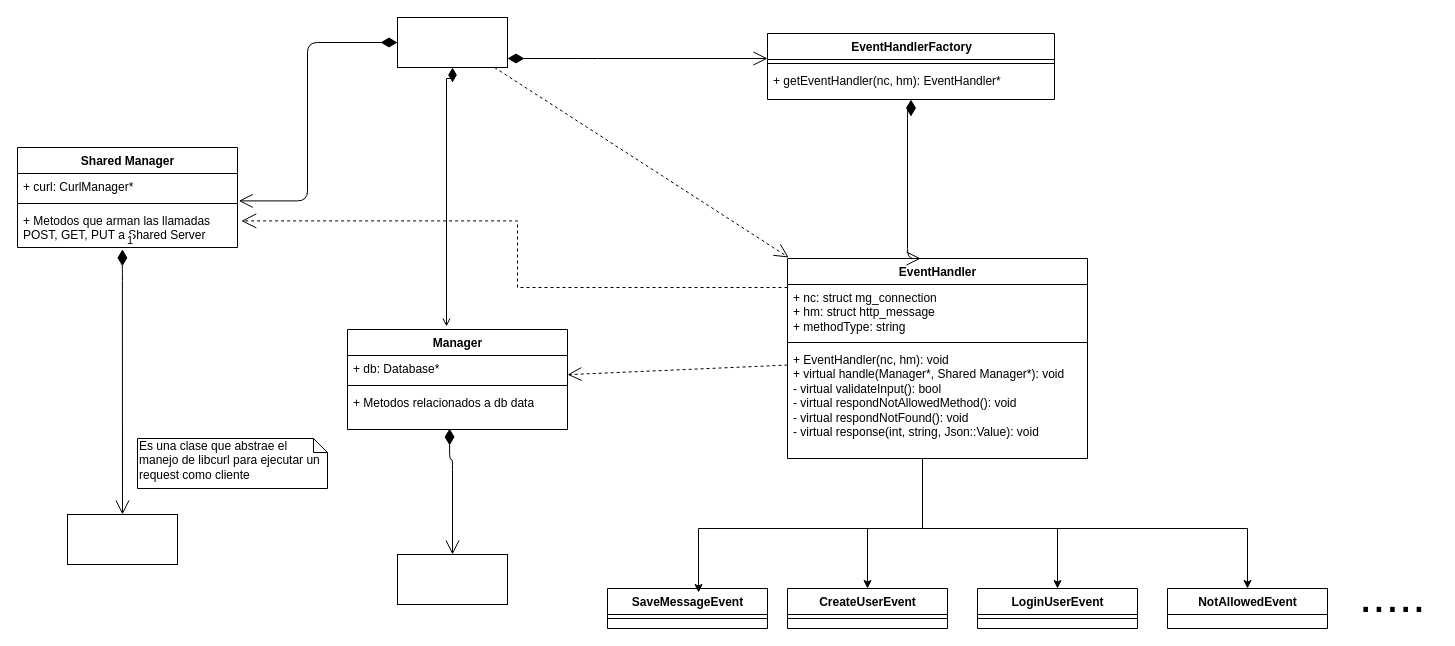
Image size: 1455x646. Some labels were removed from this diagram. Each missing label, with the centre of its shape:
CurlManager: pixel 122 539
Database: pixel 452 579
Server: pixel 452 42
